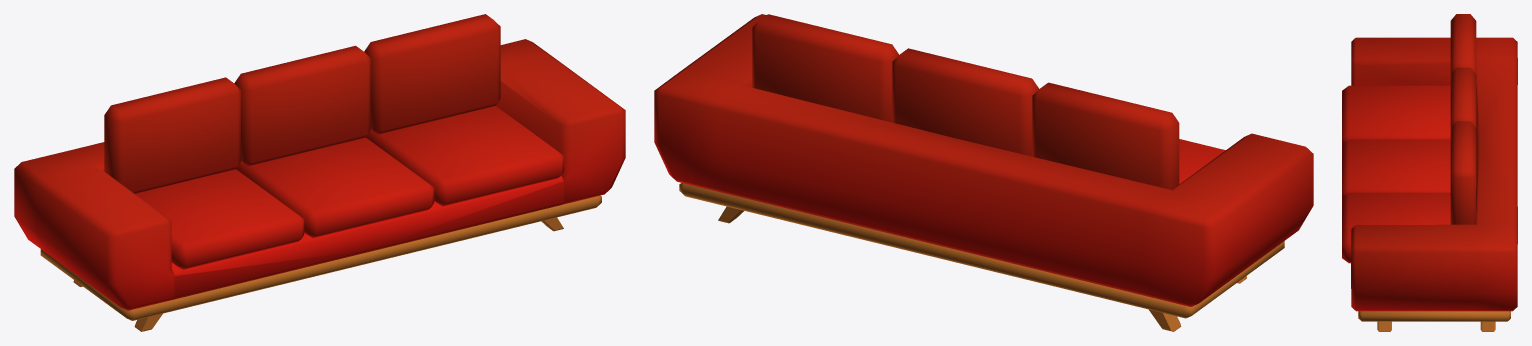
Rendered from ThreeSeater.fbx.
3 renders of one model, left to right at view 1: azimuth 30°, elevation 25°; view 2: azimuth 150°, elevation 25°; view 3: azimuth 270°, elevation 25°, orthographic. The views are drawn at different scales.
Parts seen in each view (by area): view 1: LargeSofa; view 2: LargeSofa; view 3: LargeSofa.
Boxes of the visible parts, x1=… form: LargeSofa: x1=14, y1=14, x2=625, y2=331; LargeSofa: x1=654, y1=14, x2=1313, y2=331; LargeSofa: x1=1342, y1=14, x2=1517, y2=331.
Size of the model in its own units: 4.16 by 11.99 by 4.
